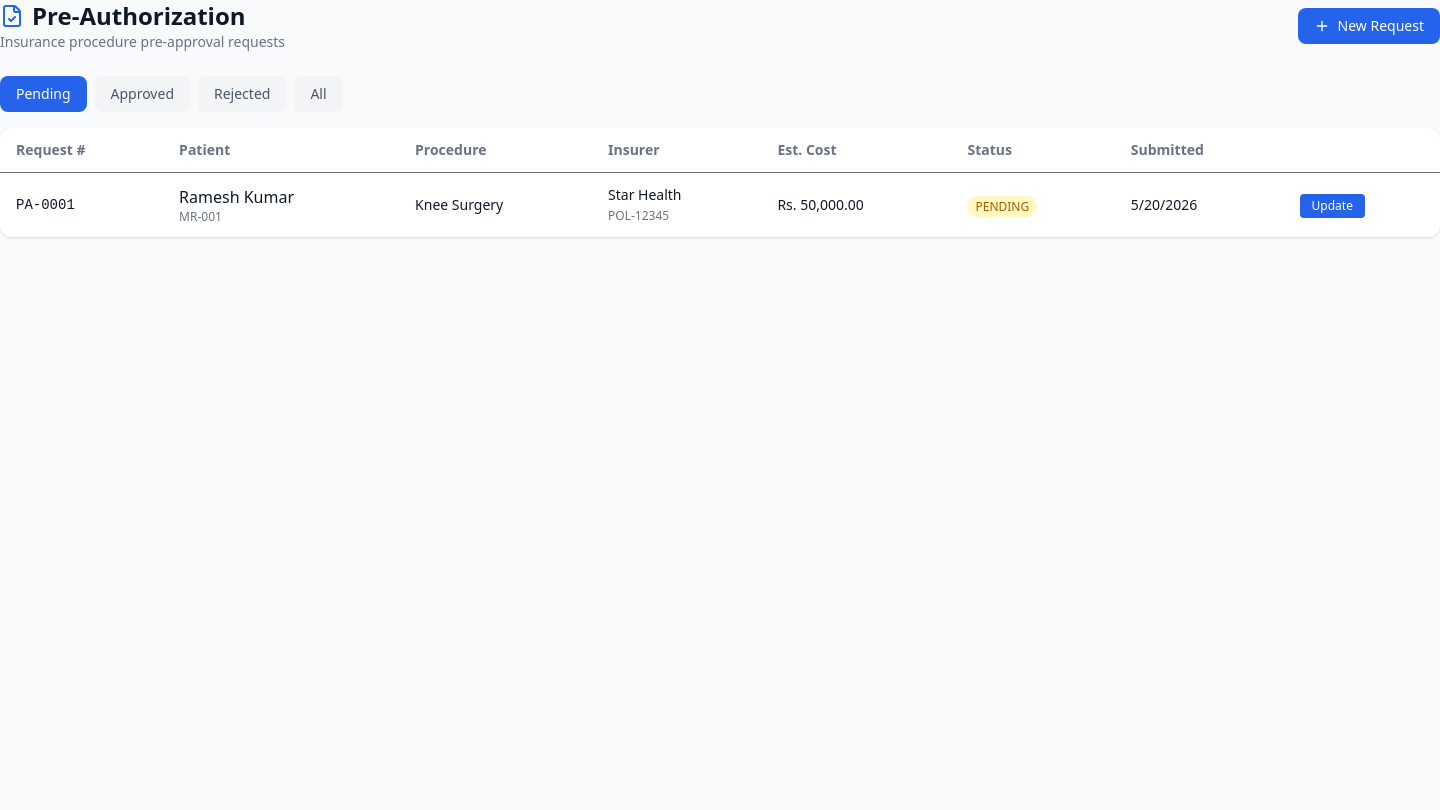
Test: PreAuth dashboard page (insurance pre-authorisation queue) › UpdateStatusModal REJECTED without a reason shows inline error and does NOT PATCH
Check: the text "PA-0001" is shown, box x1=0 y1=172 x2=163 y2=237
Click the button "Update".
click(1332, 206)  # box x1=1300 y1=194 x2=1365 y2=218
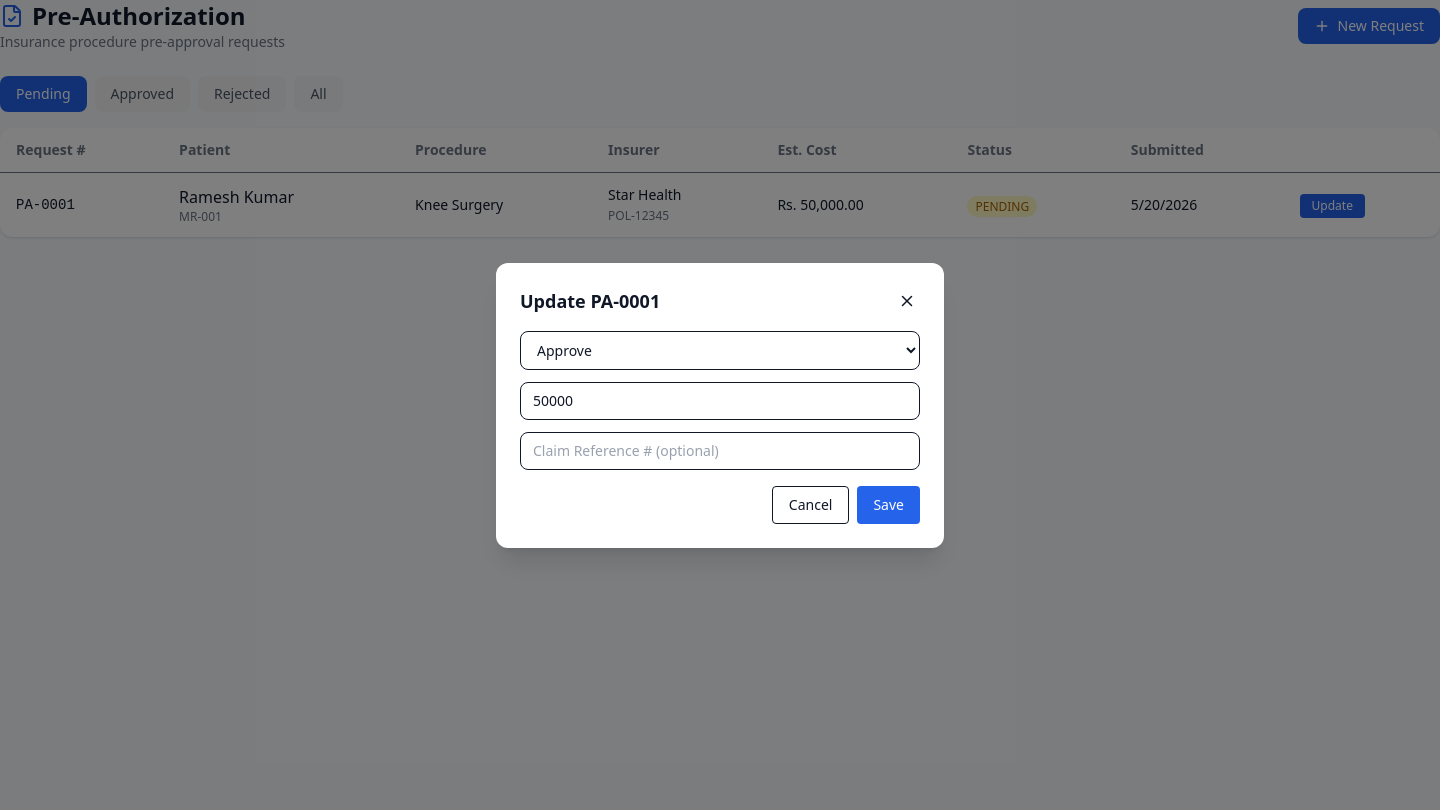
Select "Reject" in the dropdown at [720, 350], box x1=520 y1=330 x2=920 y2=370
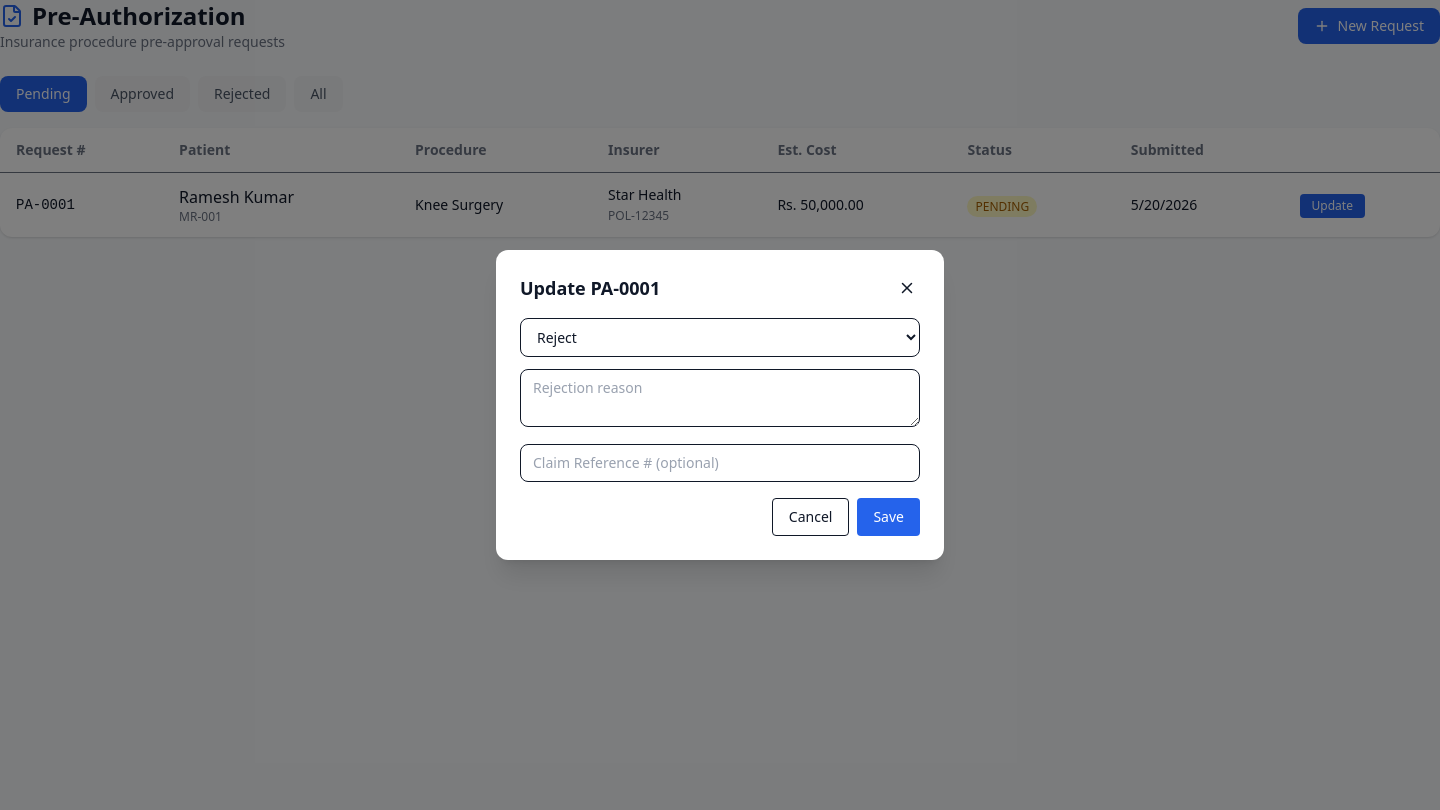
Click the button "Save".
click(889, 517)  # box x1=857 y1=498 x2=920 y2=536
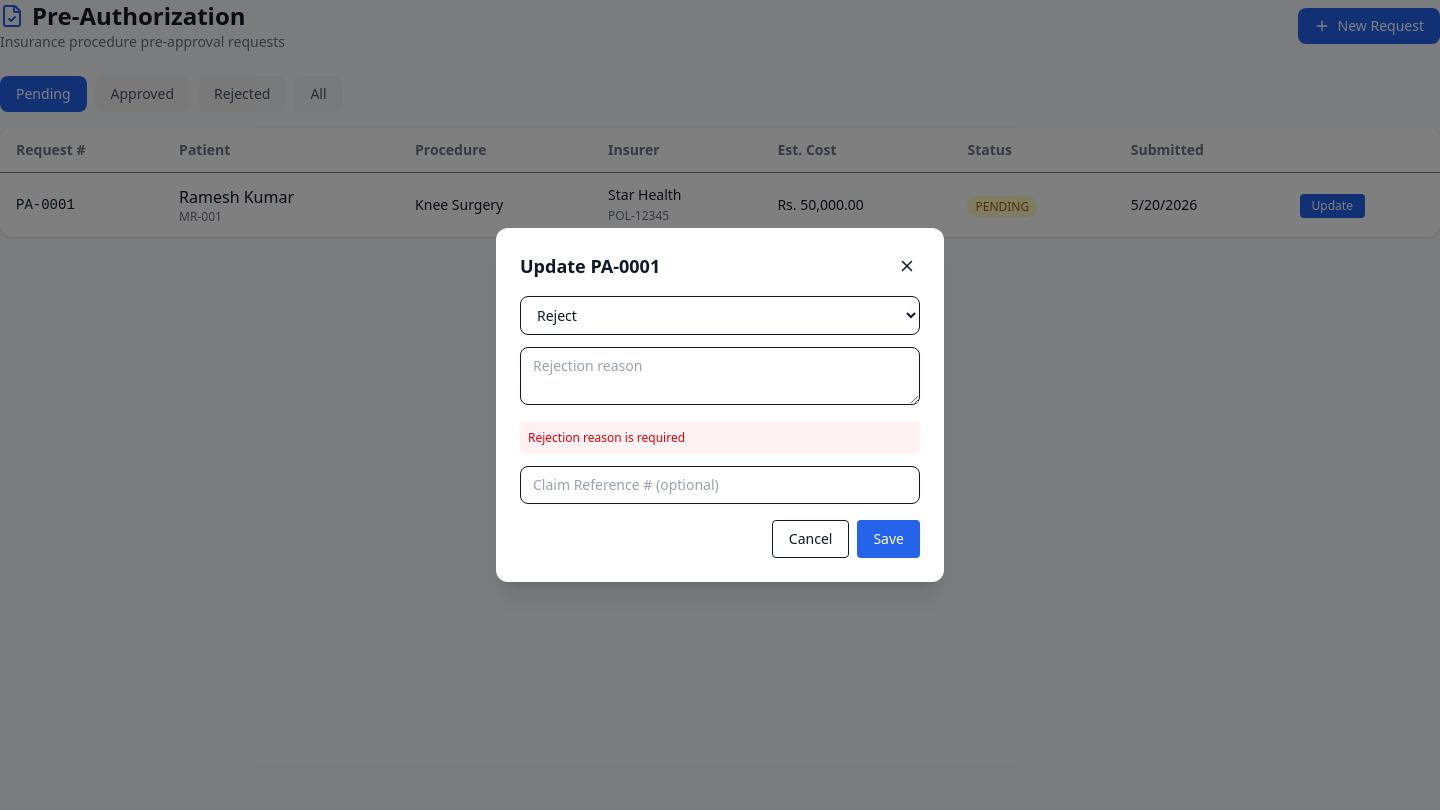
Check: the text "Rejection reason is required" is shown, box x1=520 y1=422 x2=920 y2=454
